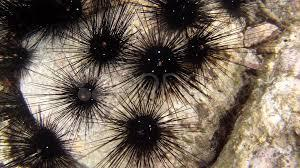urchin: (116, 28, 200, 107), (41, 63, 122, 132), (5, 113, 84, 168), (106, 106, 176, 168), (74, 19, 134, 73), (172, 18, 221, 75), (143, 0, 215, 38), (0, 0, 39, 41), (39, 0, 86, 33), (0, 40, 34, 79)
